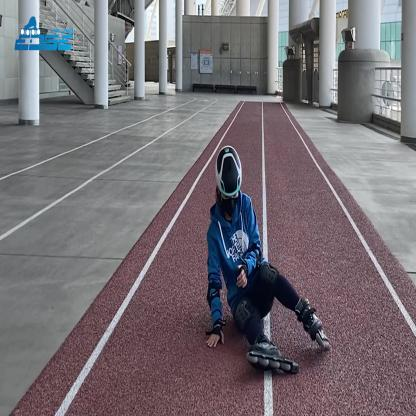Fall_Down: (207, 147, 324, 368)
